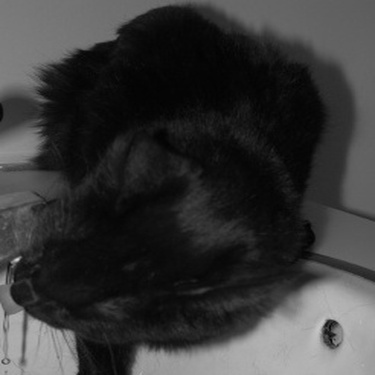cat: (9, 1, 328, 371)
